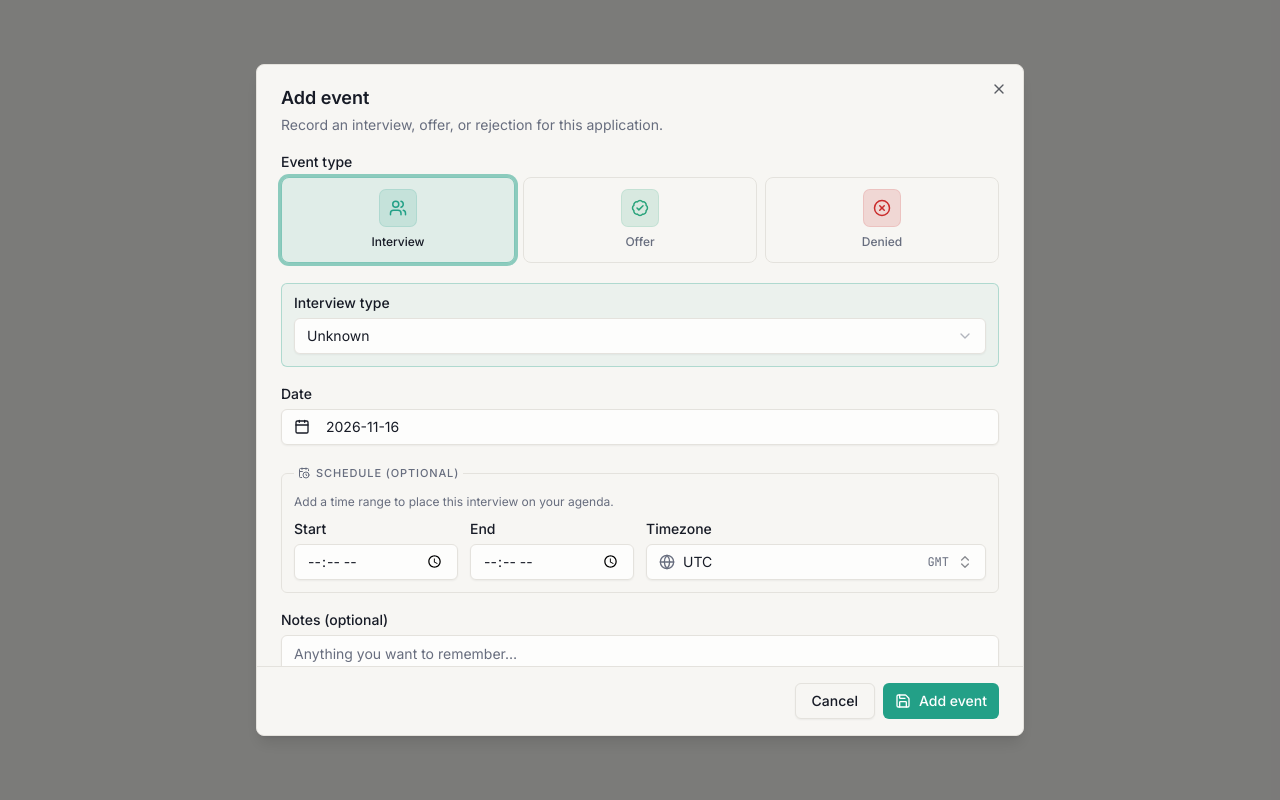
Test: TimelineEventForm — interview type visibility (AC7) › hides the interview type select for Offer
The width and height of the screenshot is (1280, 800).
Click the radio button labelled "Offer". click: (640, 220)
box: [523,177,757,263]
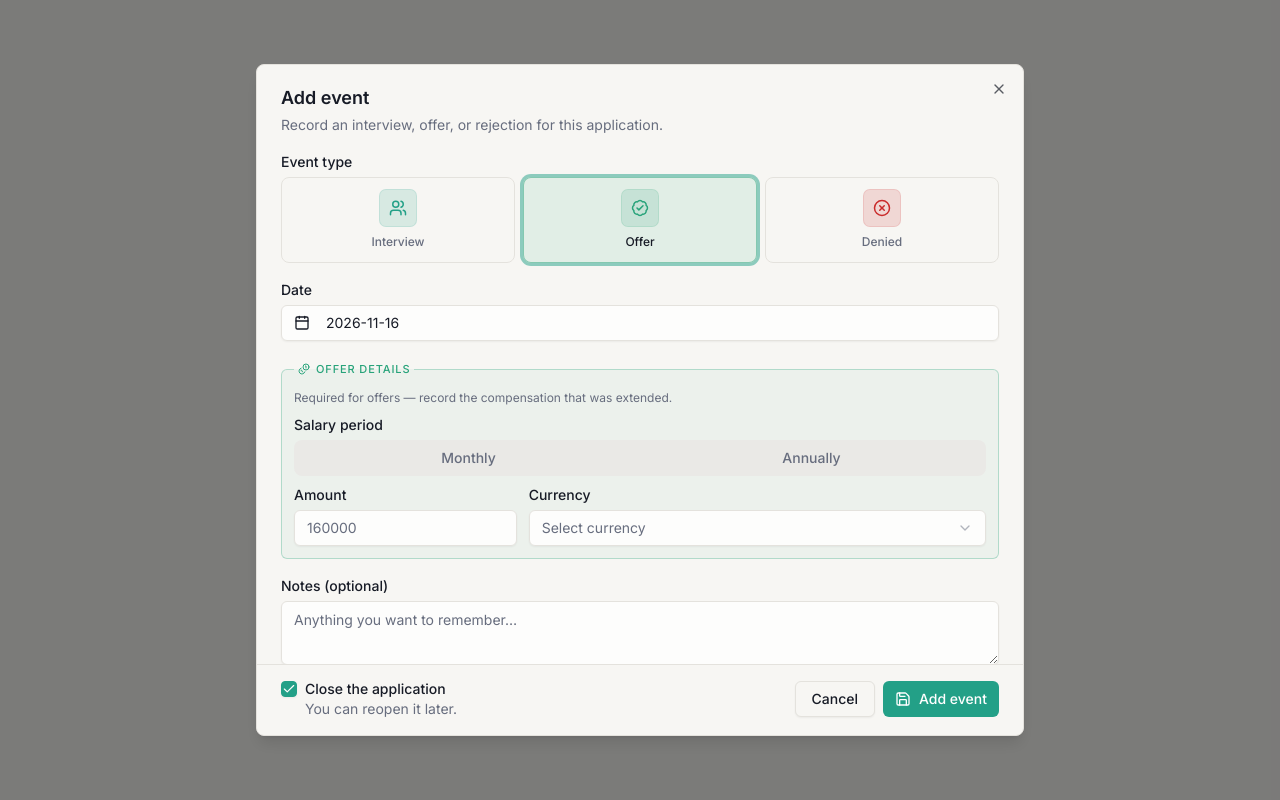
Now the label "Interview type" is gone
